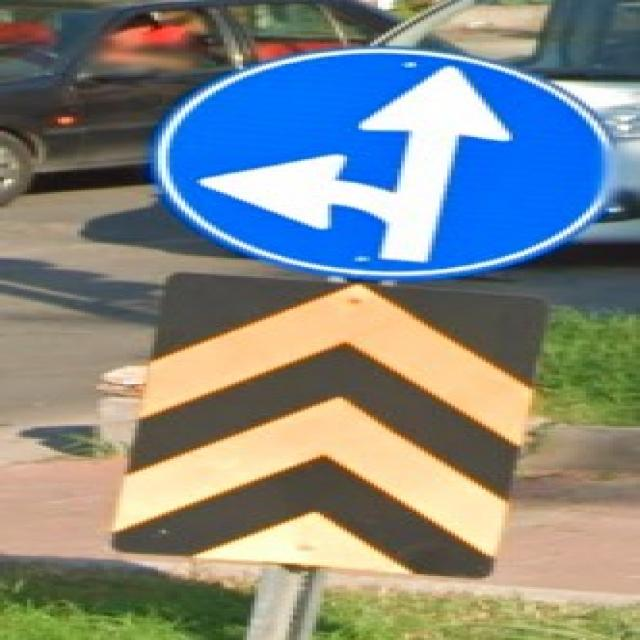Straight or Left: (153, 49, 616, 277)
